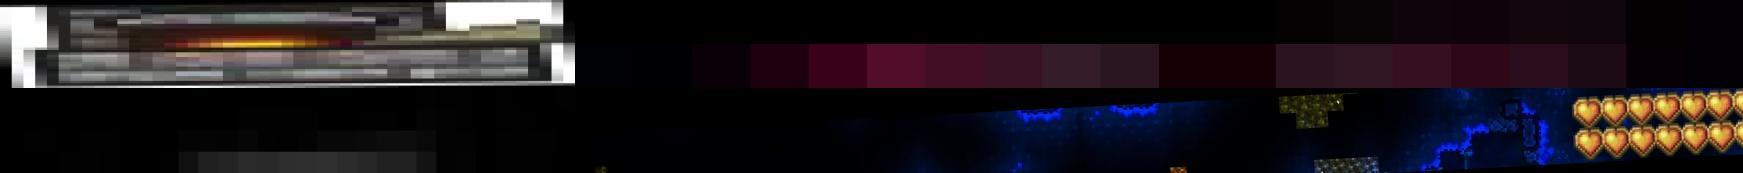furnace: (0, 0, 575, 88)
lifeC: (575, 0, 1743, 88)
slime: (0, 88, 575, 173)
